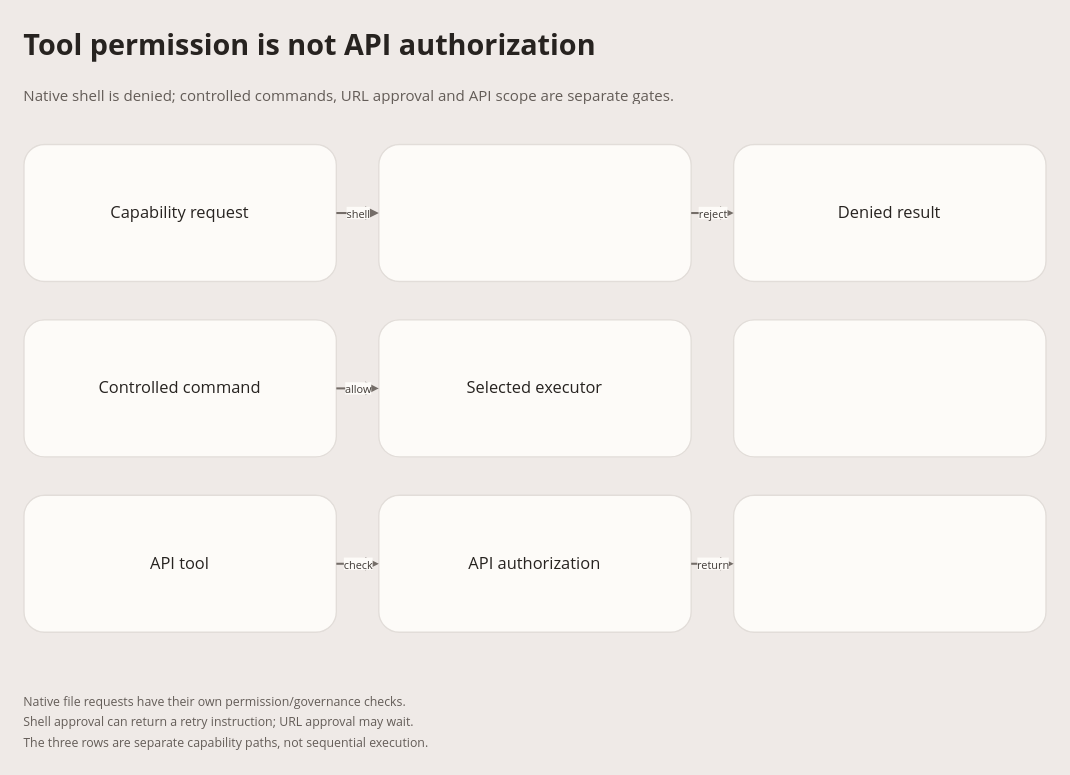
This 1070x775 diagram has some shape labels left out. Each missing label, with the centre of its shape:
"Native shell" goes at point 534,212.
"Operation result" goes at point 889,563.
"URL permission" goes at point 889,388.
